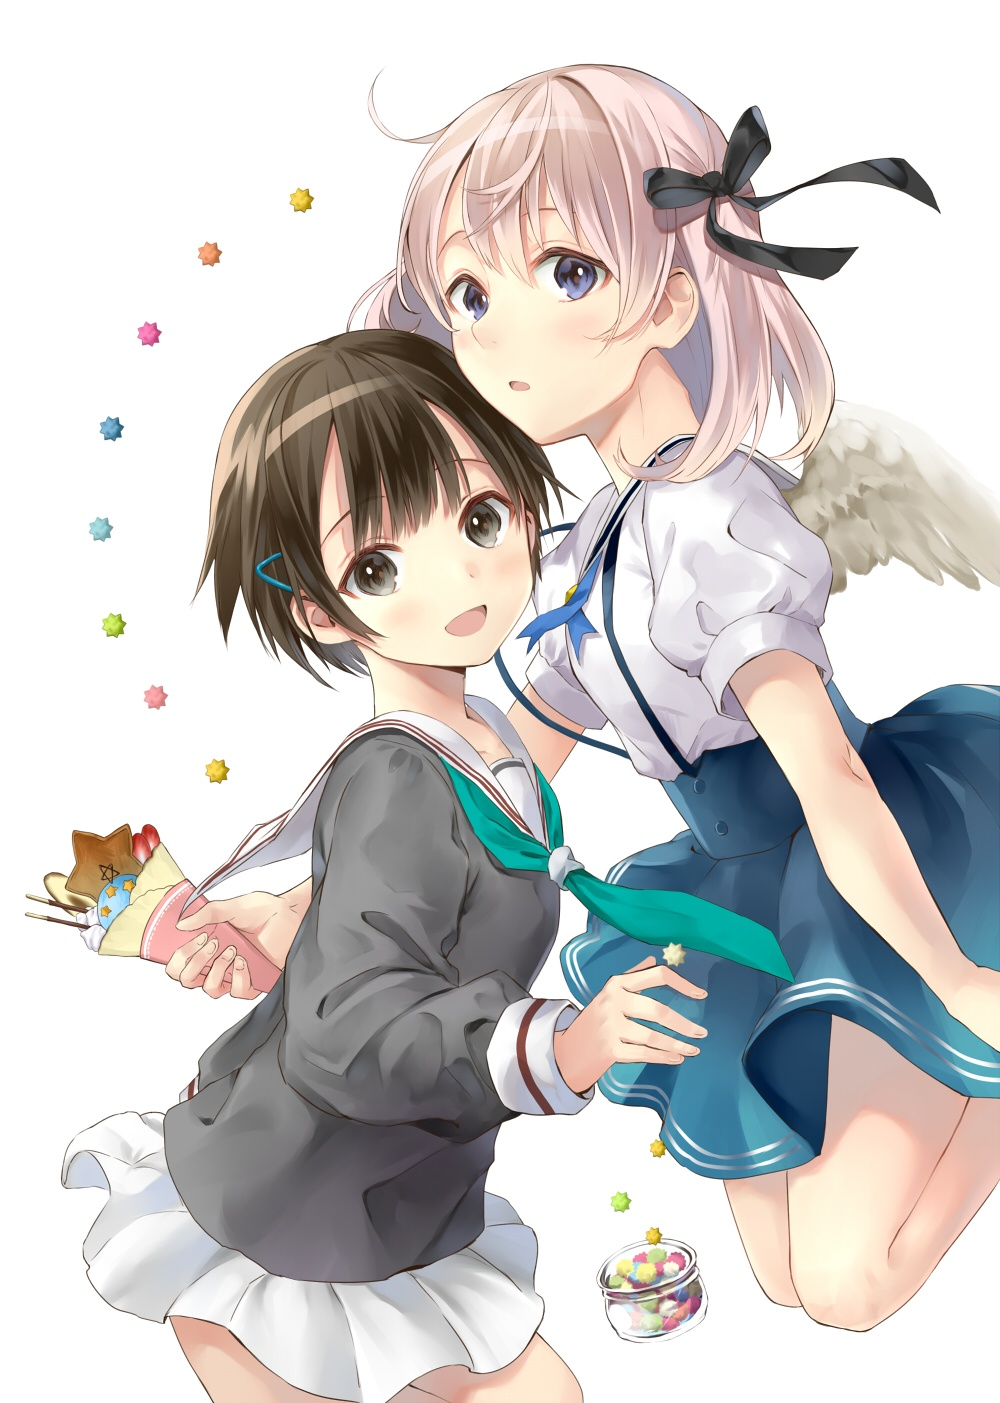纸片人正脸: (381, 46, 754, 444), (194, 318, 566, 689)
